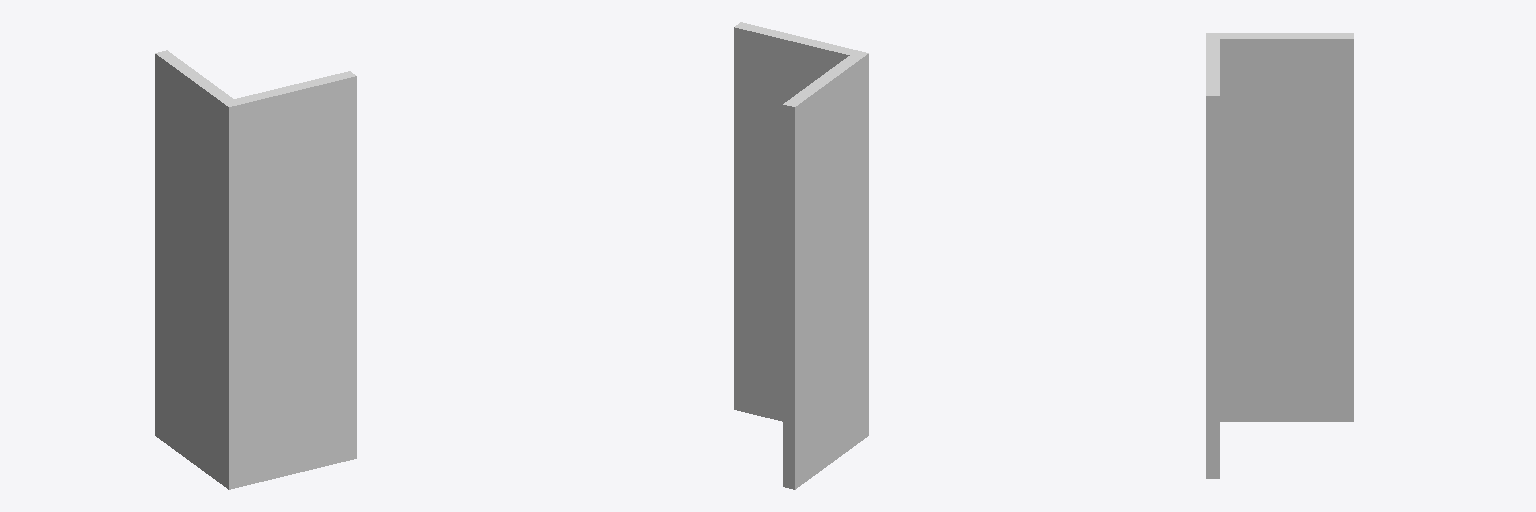
Rendered from SM_WallInteriorCorner.obj.
The picture shows the model from 3 angles: view 1: azimuth 30°, elevation 25°; view 2: azimuth 150°, elevation 25°; view 3: azimuth 270°, elevation 25°; orthographic projection.
Visible parts, largest first — view 1: WallInteriorCorner; view 2: WallInteriorCorner; view 3: WallInteriorCorner.
Boxes of the visible parts, box(x1,y1,x2,y2) form: WallInteriorCorner: box(155, 50, 356, 489); WallInteriorCorner: box(734, 22, 868, 489); WallInteriorCorner: box(1206, 33, 1353, 478).
Size of the model in its own units: 1.05 by 3 by 1.05.